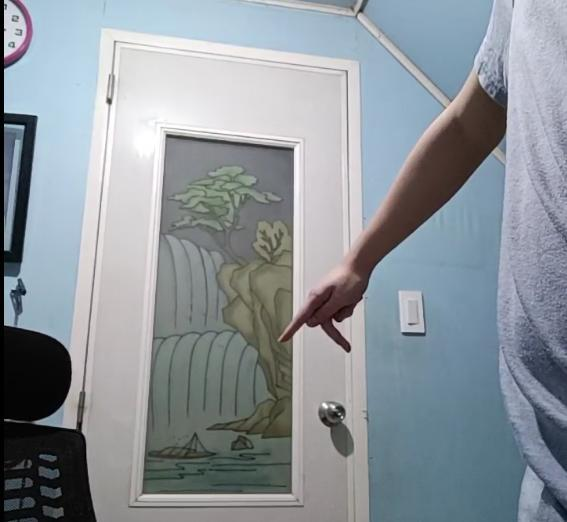p: (277, 260, 365, 351)
